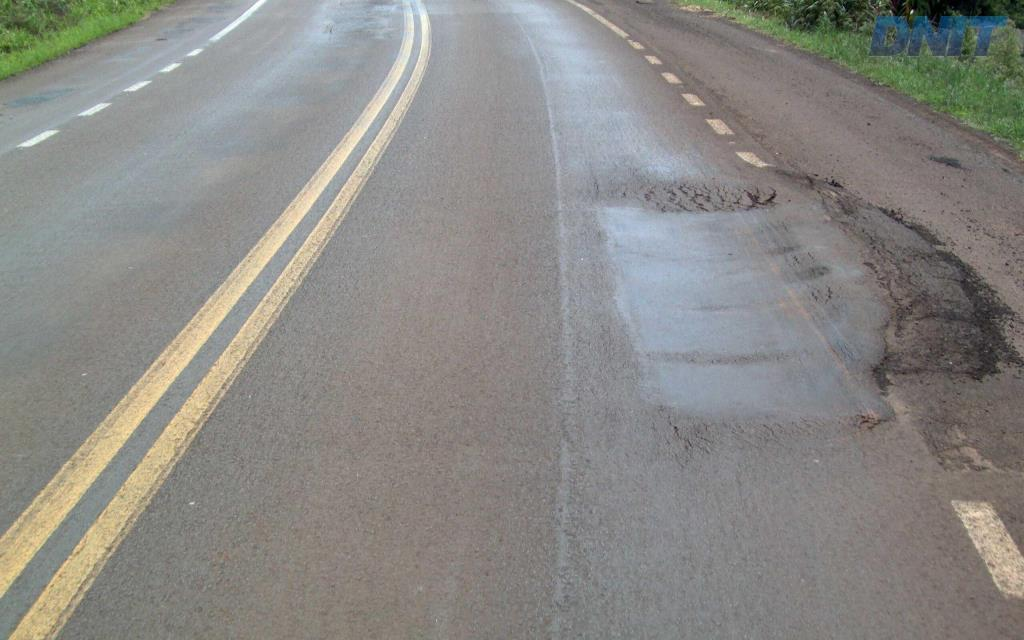crack: (677, 183, 713, 212), (741, 185, 778, 211)
